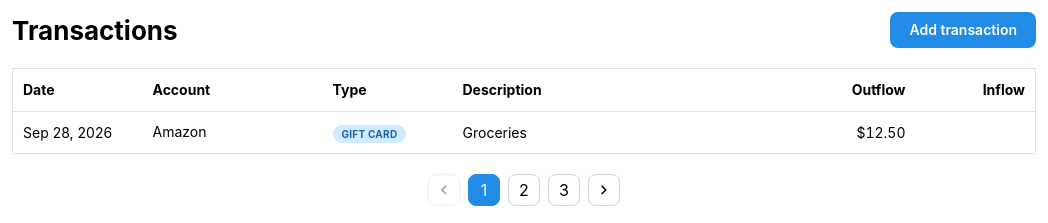
Test: paginates through the transactions
The image size is (1048, 223).
Expected: the text "Groceries" is shown, [452,111,796,154]
Expected: the button "3" is shown, [548,174,580,206]
Click the button "2" at {"x": 524, "y": 190}, box [508,174,540,206]
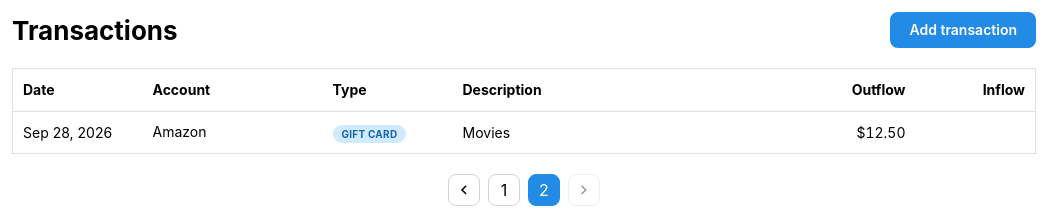
Now the text "Movies" is shown, box [452,111,796,154]
